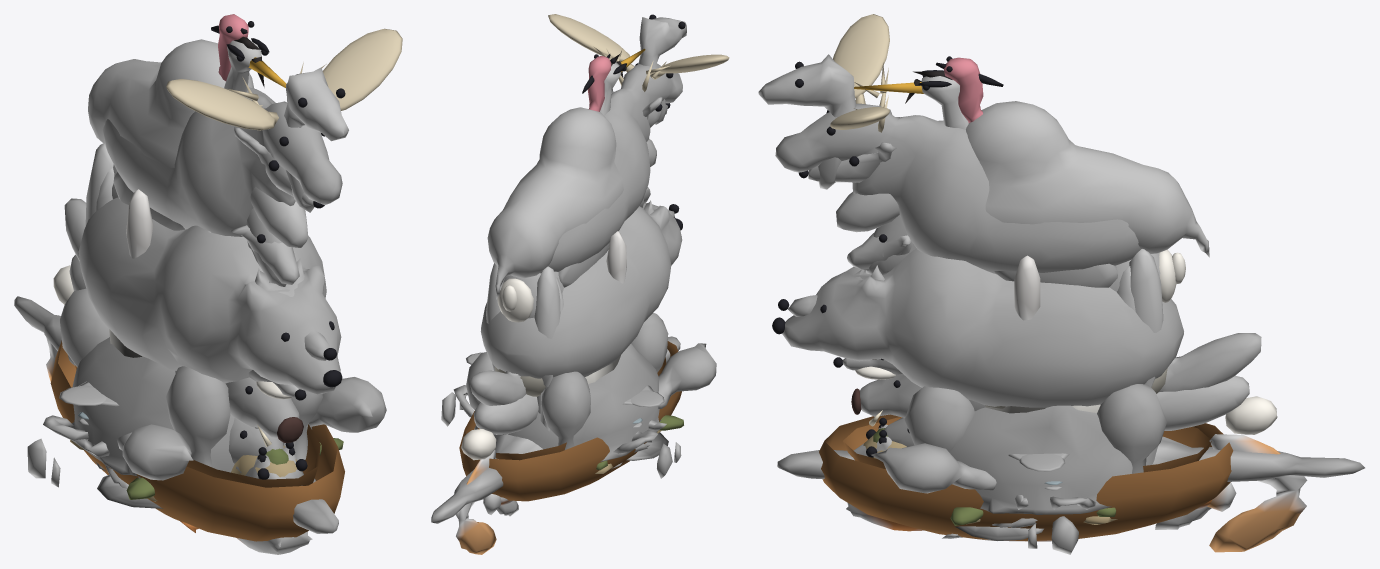
The model's file is animals.glb.
3 views of the same model, side by side, from view 1: azimuth 30°, elevation 25°; view 2: azimuth 150°, elevation 25°; view 3: azimuth 270°, elevation 25° (orthographic). The views are drawn at different scales.
Parts seen in each view (by area): view 1: body.015, body.024, body.017, hull, shell, body.007, antlers.001, leg1.006, body.026, body.023, leg3.004, body.014 (+16 smaller); view 2: body.015, body.017, body.024, hull, shell, body.007, leg3.004, body.026, antlers.001, tail.001, body.006, body.014 (+13 smaller); view 3: body.015, body.017, body.024, hull, shell, body.007, body.026, tail.001, body.014, leg2.004, antlers.001, body.006 (+14 smaller).
Boxes of the visible parts, left/top/right/bottom form: body.015: left=78, top=197, right=341, bottom=394; body.024: left=102, top=87, right=342, bottom=236; body.017: left=88, top=39, right=348, bottom=247; hull: left=50, top=340, right=344, bottom=541; shell: left=70, top=337, right=311, bottom=478; body.007: left=27, top=377, right=386, bottom=487; antlers.001: left=166, top=28, right=402, bottom=130; leg1.006: left=166, top=366, right=230, bottom=467; body.026: left=14, top=296, right=338, bottom=533; body.023: left=175, top=370, right=299, bottom=437; leg3.004: left=60, top=288, right=109, bottom=367; body.014: left=64, top=198, right=329, bottom=360; body.015: left=480, top=202, right=682, bottom=378; body.017: left=487, top=17, right=686, bottom=299; body.024: left=540, top=63, right=682, bottom=273; hull: left=459, top=341, right=681, bottom=501; shell: left=474, top=344, right=661, bottom=461; body.007: left=441, top=343, right=716, bottom=478; leg3.004: left=541, top=371, right=590, bottom=449; body.026: left=431, top=336, right=680, bottom=523; antlers.001: left=548, top=14, right=729, bottom=79; tail.001: left=455, top=450, right=501, bottom=554; body.006: left=473, top=394, right=538, bottom=434; body.014: left=469, top=200, right=674, bottom=405; body.015: left=782, top=248, right=1183, bottom=407; body.017: left=758, top=54, right=1209, bottom=257; body.024: left=775, top=103, right=1140, bottom=274; hull: left=819, top=414, right=1233, bottom=541; shell: left=949, top=405, right=1158, bottom=514; body.007: left=871, top=443, right=1095, bottom=554; body.026: left=777, top=424, right=1364, bottom=481; tail.001: left=1207, top=434, right=1307, bottom=552; body.014: left=788, top=265, right=1261, bottom=391; leg2.004: left=1097, top=384, right=1166, bottom=473; antlers.001: left=830, top=14, right=889, bottom=129; body.006: left=842, top=358, right=1249, bottom=430.
Bounding box in the file's own units: 1.08 × 1.88 × 2.1.
